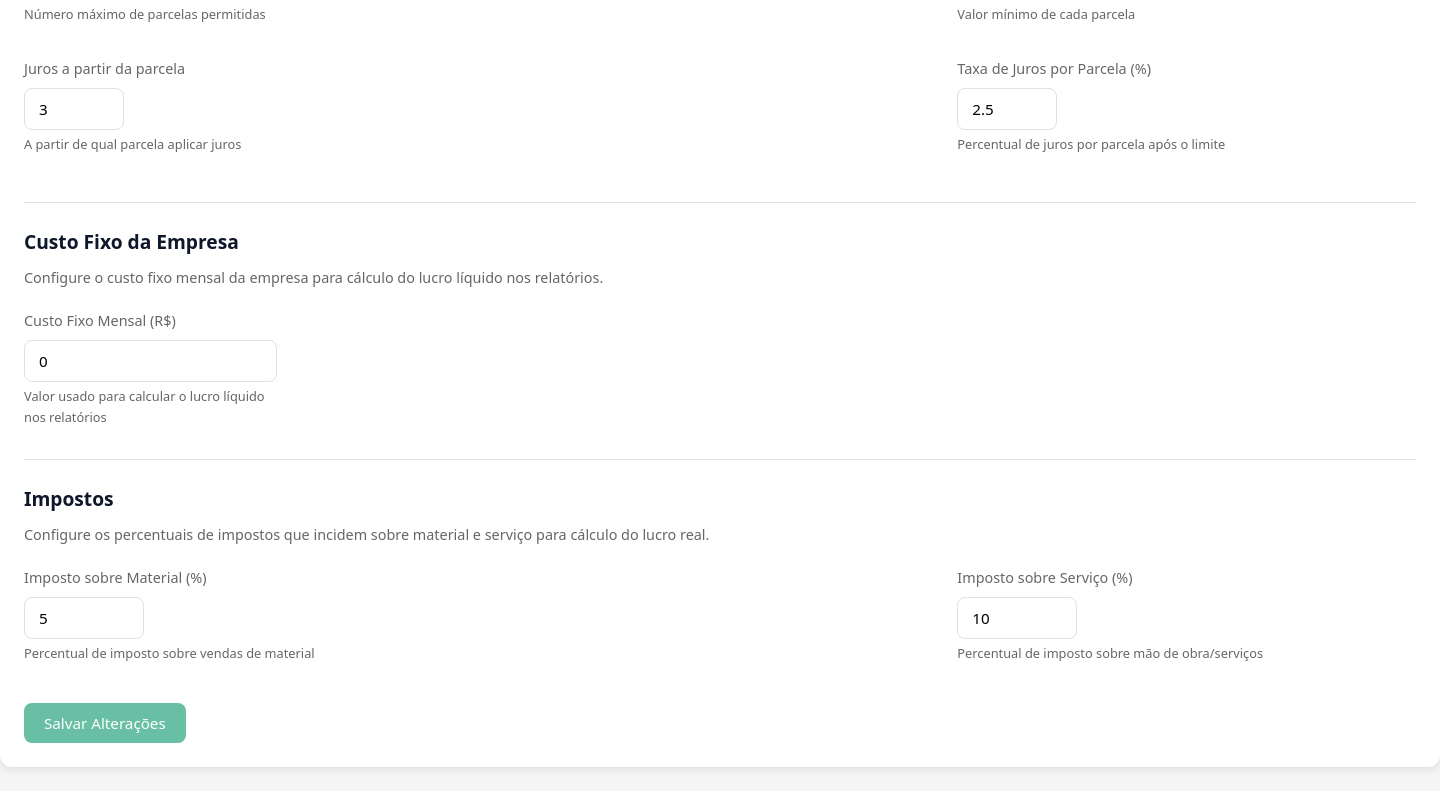
it: EmpresaTab › Configurações de Impostos › deve marcar formulário como dirty ao alterar impostos
(page scrolled)
Expected: the button "Salvar Alterações" is disabled, [24,703,186,743]
Replace the text in the number field below "Imposto sobre Material (%)" with "8": coordinates (84, 618) [24,597,144,639]
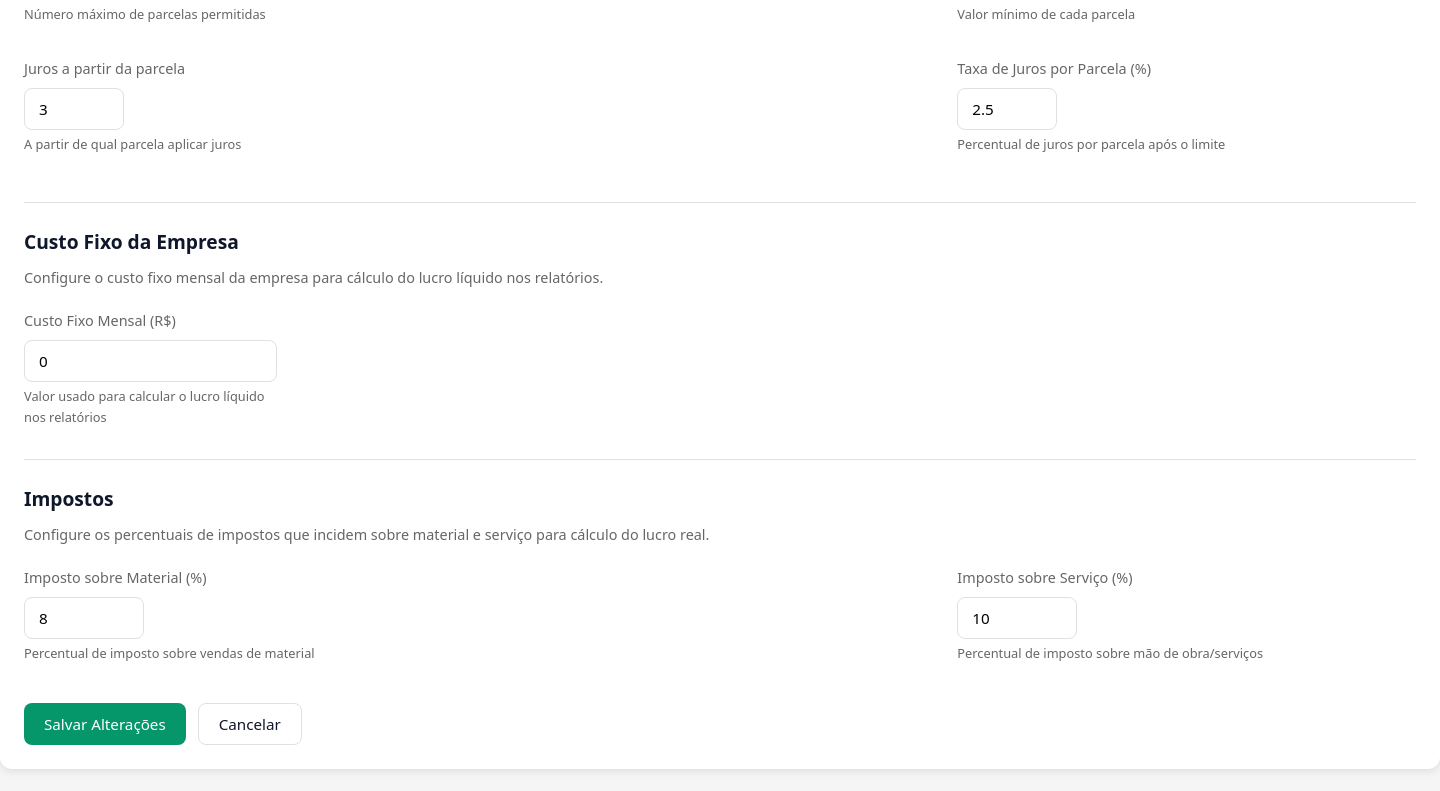
Now the button "Salvar Alterações" is enabled, box [24,703,186,745]
